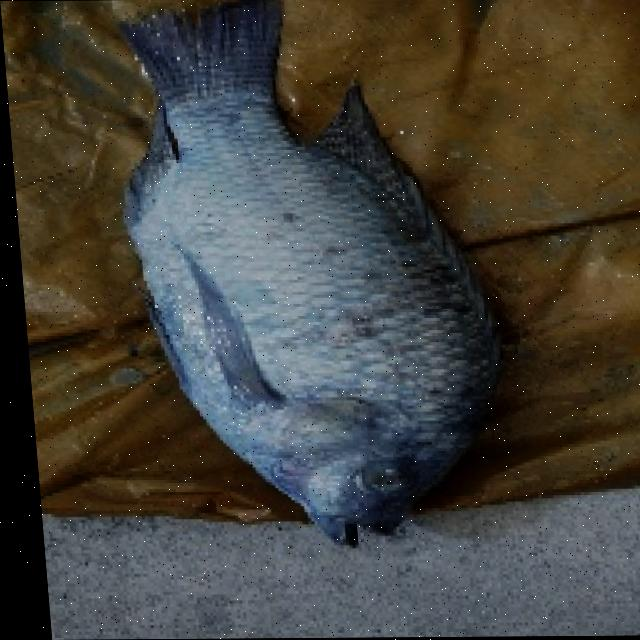Non-Fresh: (110, 94, 524, 557)
